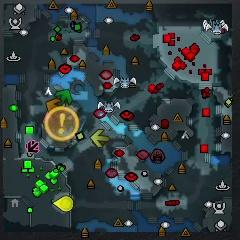Other: (45, 107, 79, 142)
p4: (53, 196, 74, 212)
x1: (43, 111, 54, 124)
x1Clone: (25, 142, 40, 154), (28, 141, 40, 153)
x2: (91, 129, 109, 147)
x4: (56, 89, 72, 105)
x5: (45, 98, 60, 111)
